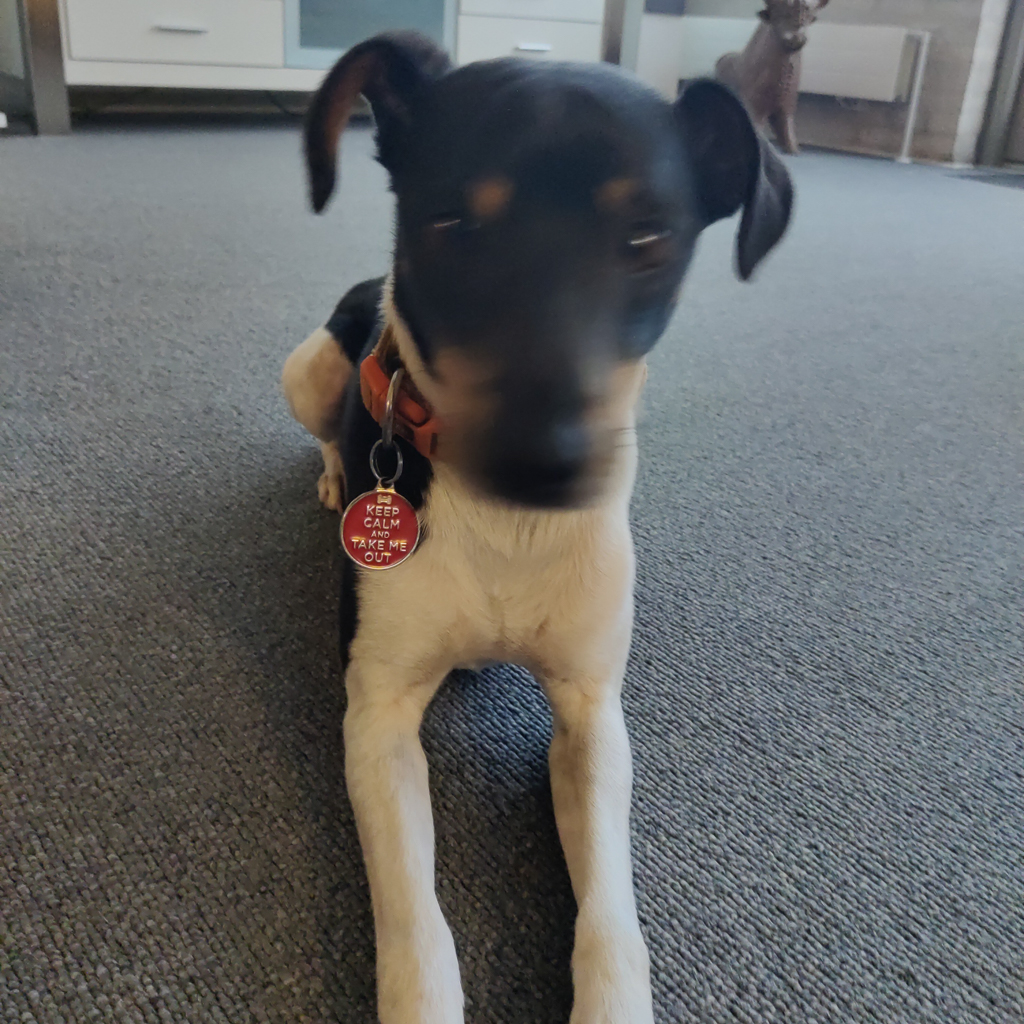Cattle: (705, 0, 835, 165)
Dog: (256, 21, 810, 1024)
